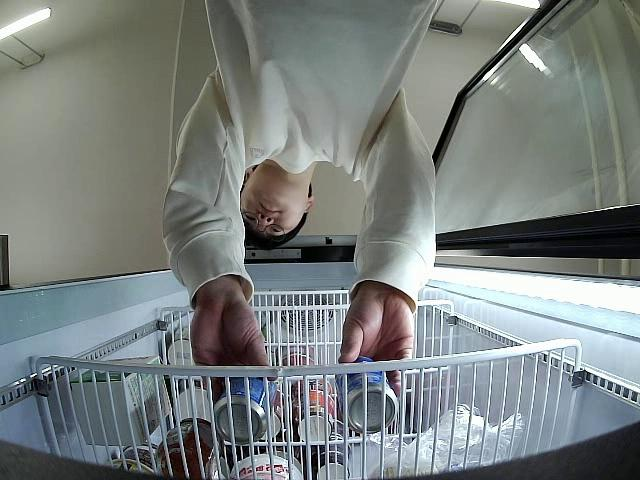00_hand: (188, 293, 277, 399), (338, 294, 416, 393)
15_letsbe: (334, 353, 400, 436), (210, 376, 276, 446)
